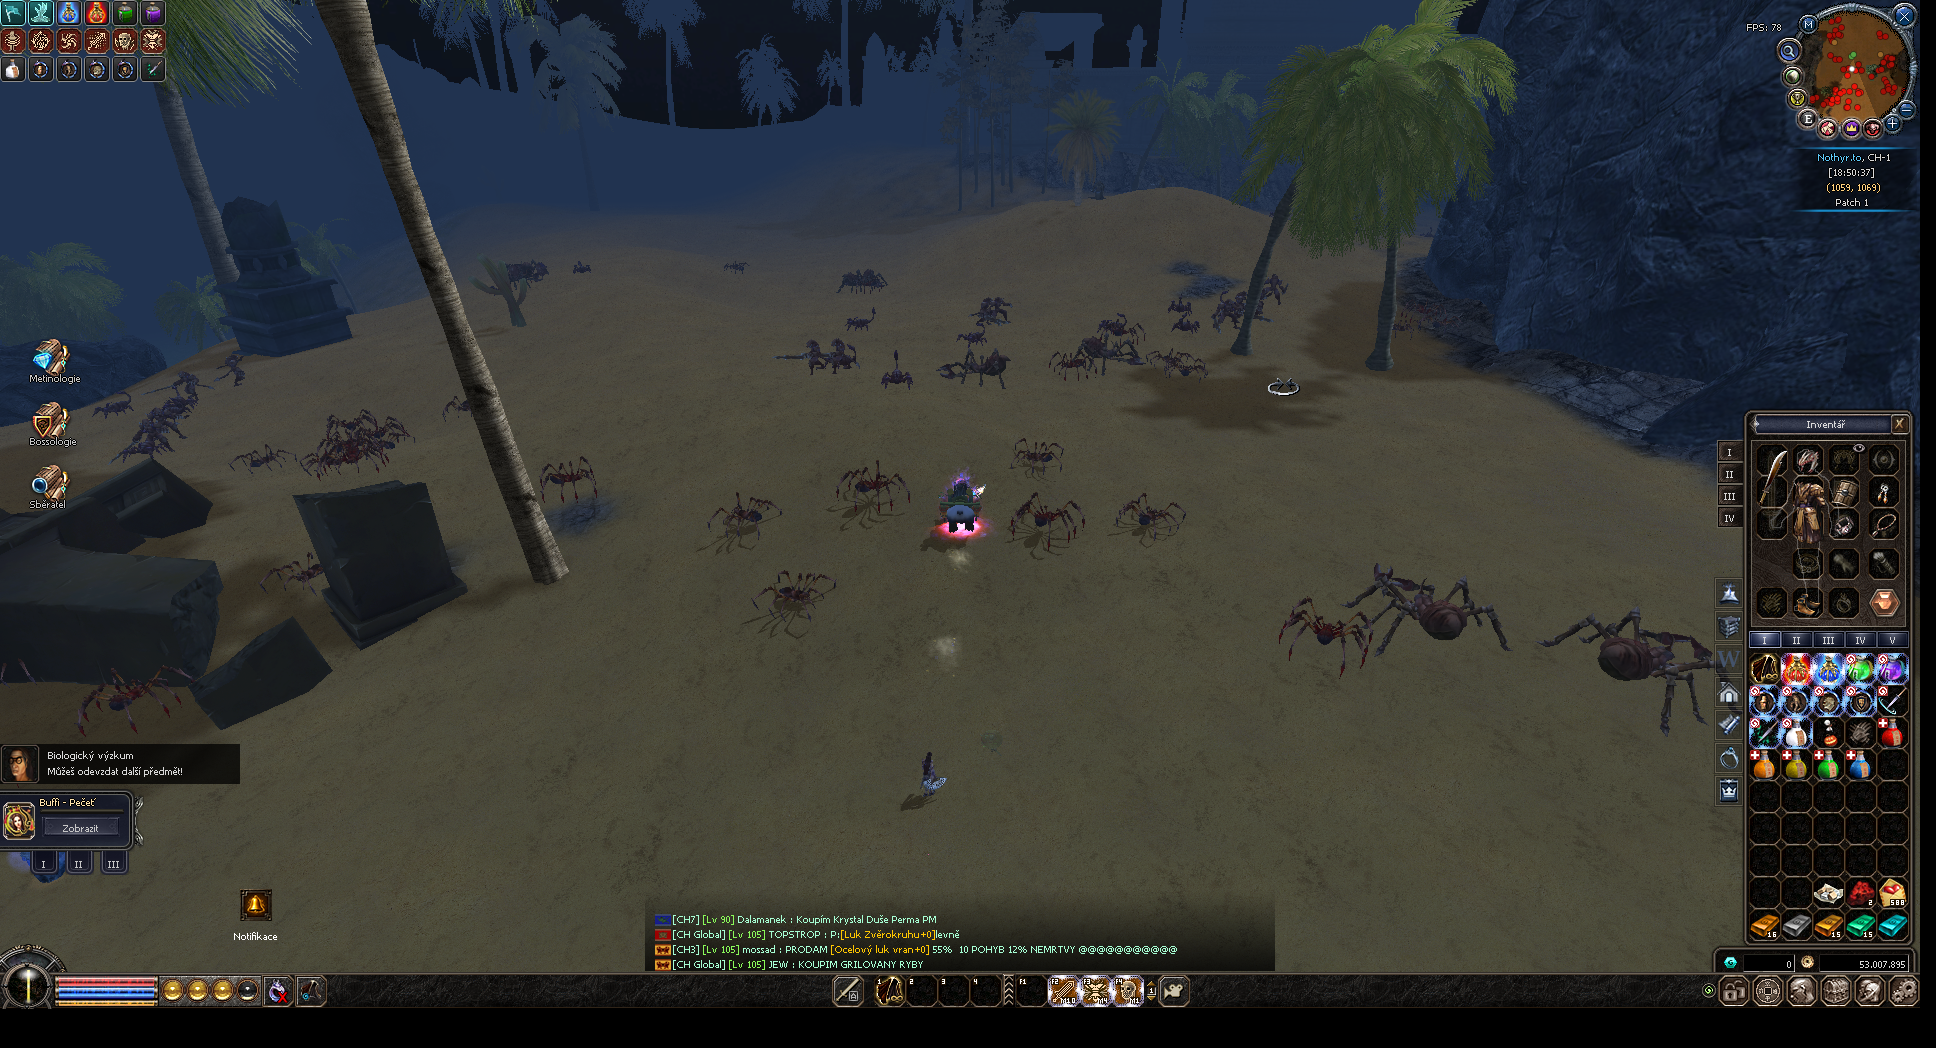Enemy: (1548, 604, 1728, 733), (1373, 582, 1506, 665), (76, 654, 199, 733), (1278, 596, 1376, 676), (1009, 490, 1084, 551), (839, 459, 910, 516), (711, 488, 782, 542), (767, 570, 834, 622), (1116, 490, 1184, 541), (254, 558, 336, 594), (539, 456, 599, 503), (945, 348, 1009, 387), (1076, 334, 1138, 373), (145, 369, 213, 400), (1016, 435, 1065, 478), (321, 441, 383, 475), (139, 408, 187, 444), (239, 441, 297, 470), (494, 259, 543, 293), (484, 265, 541, 292), (348, 417, 405, 444), (1049, 351, 1097, 382), (129, 418, 178, 448), (298, 450, 364, 472), (780, 339, 822, 372), (324, 407, 374, 434), (1227, 290, 1265, 323), (882, 352, 913, 388), (1257, 275, 1296, 303), (842, 268, 884, 294), (96, 390, 134, 418), (987, 293, 1017, 328), (1164, 358, 1205, 382), (838, 271, 883, 293), (217, 355, 248, 386), (1212, 299, 1239, 334), (830, 337, 856, 373), (1387, 310, 1418, 338), (441, 398, 483, 418), (1149, 348, 1191, 368), (116, 440, 168, 456), (1100, 323, 1149, 338), (959, 321, 987, 347), (847, 307, 879, 329), (973, 294, 995, 325), (1175, 311, 1199, 334), (155, 395, 199, 408), (725, 259, 750, 276), (1100, 312, 1128, 327), (156, 404, 187, 417), (1168, 299, 1191, 314), (572, 259, 591, 275)
Me: (940, 479, 982, 532)
Statue: (922, 751, 946, 796)
